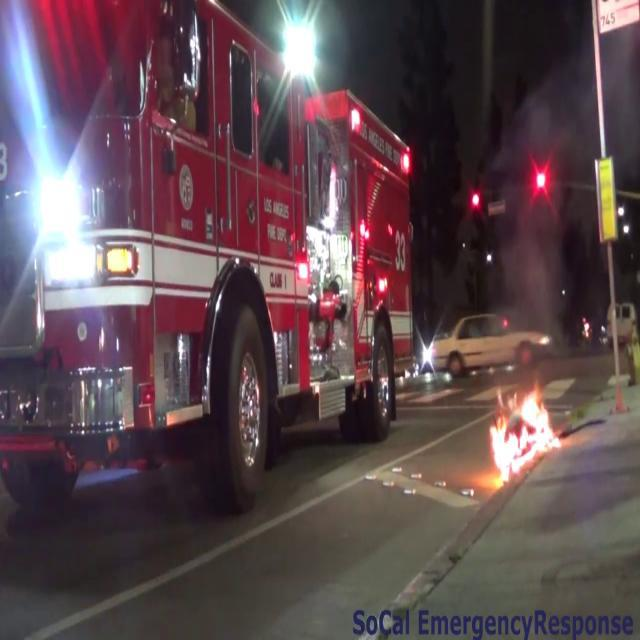Fire: (480, 371, 566, 488)
Smoke: (496, 47, 584, 342)
